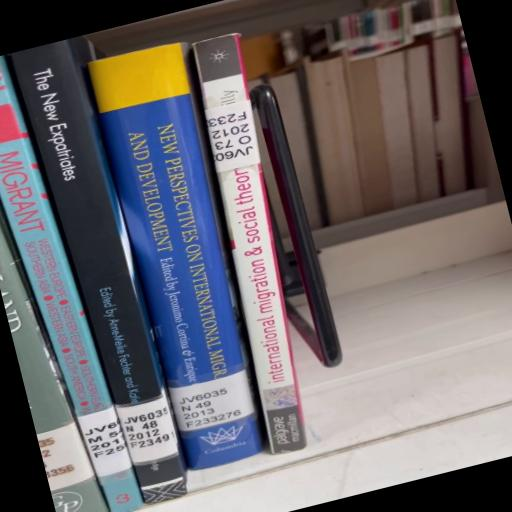reverse: (193, 35, 342, 455)
